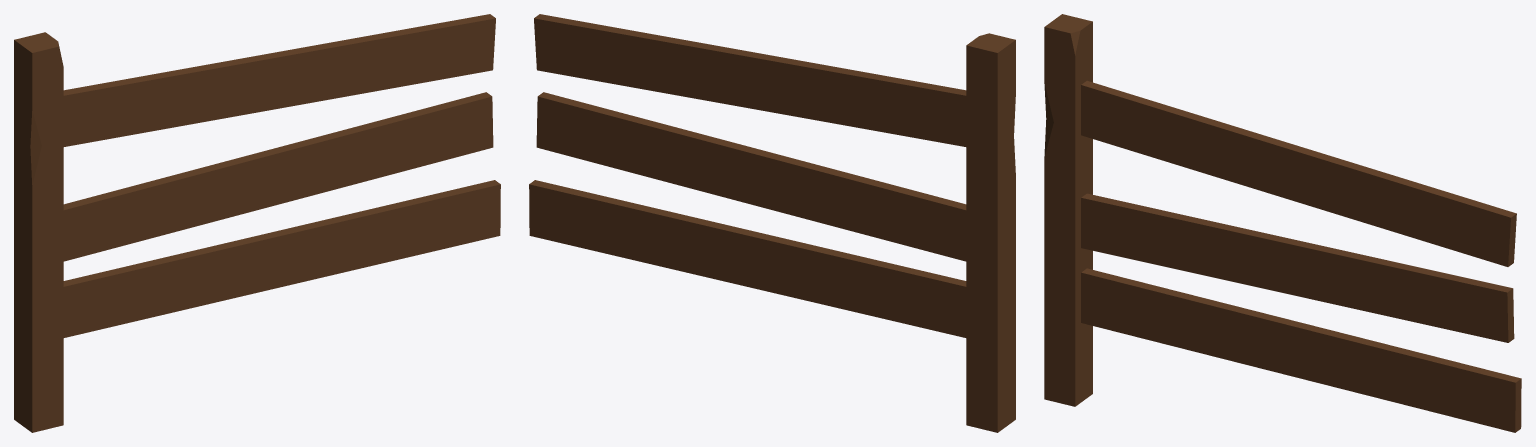
File: fence04.fbx
3 views of the same model, side by side, from view 1: azimuth 30°, elevation 25°; view 2: azimuth 150°, elevation 25°; view 3: azimuth 330°, elevation 25° (orthographic). The views are drawn at different scales.
Visible parts, largest first — view 1: fence04; view 2: fence04; view 3: fence04.
Part boxes in pixels (bbox=[...]): fence04: bbox=[14, 14, 500, 432]; fence04: bbox=[529, 14, 1015, 432]; fence04: bbox=[1044, 14, 1521, 432].
Bounding box in the file's own units: 204 × 156 × 13.52.
